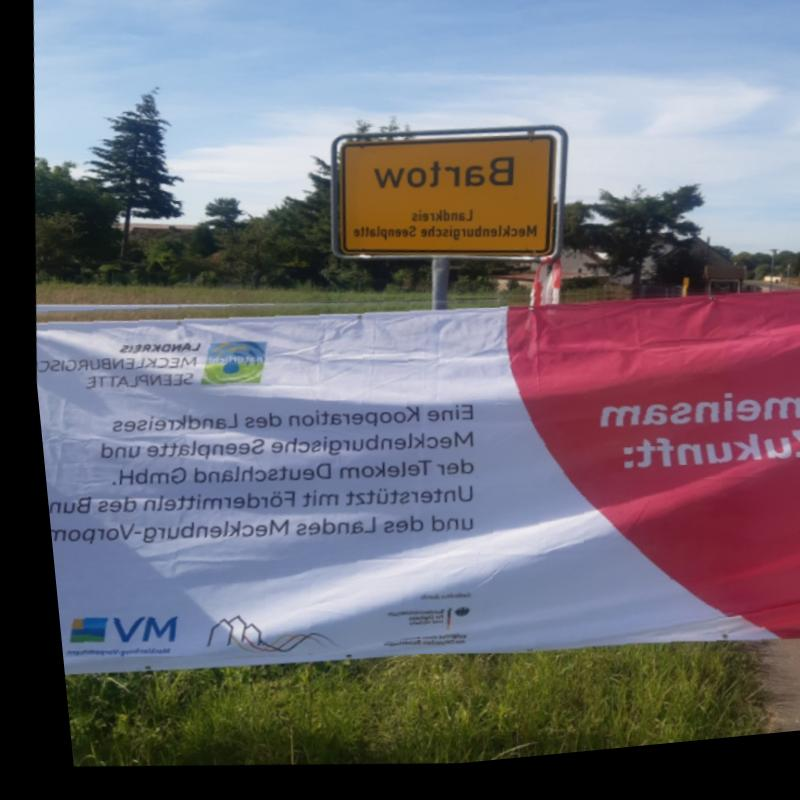Banner: (22, 233, 800, 724)
